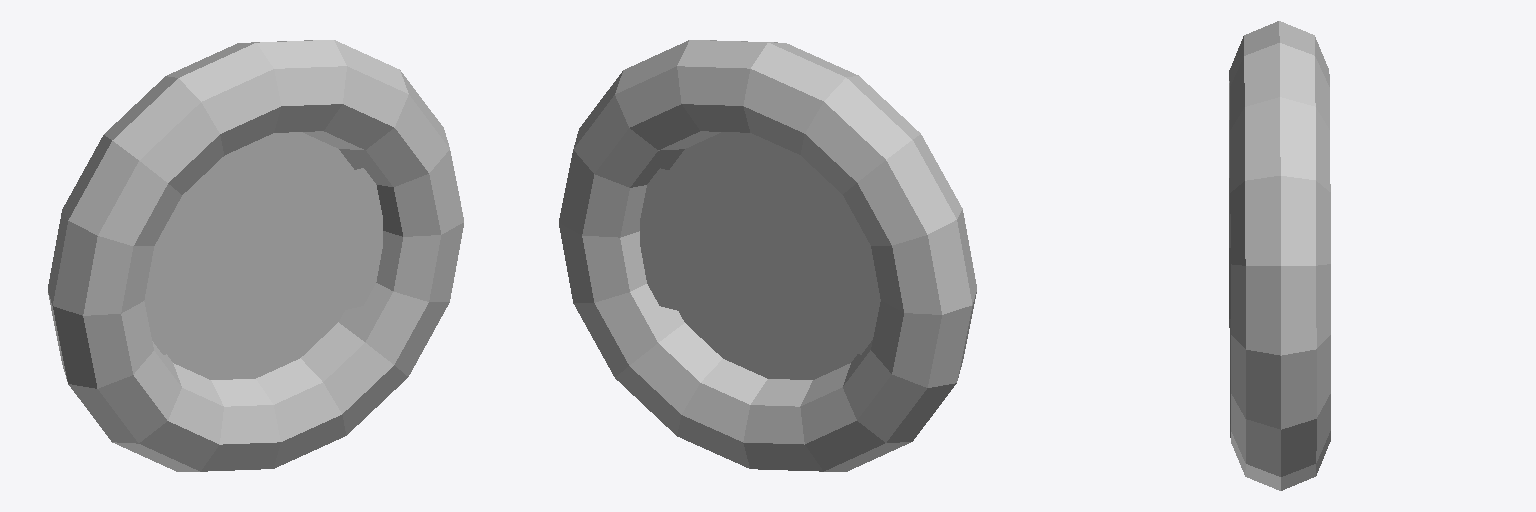
The model's file is Back Ring.obj.
The picture shows the model from 3 angles: view 1: azimuth 30°, elevation 25°; view 2: azimuth 150°, elevation 25°; view 3: azimuth 270°, elevation 25°; orthographic projection.
Visible parts, largest first — view 1: Mesh_0112; view 2: Mesh_0112; view 3: Mesh_0112.
Part boxes in pixels (x1,y1,x2,y2): Mesh_0112: (48,40,463,471); Mesh_0112: (559,40,976,471); Mesh_0112: (1229,21,1330,490).
Size of the model in its own units: 5.14 by 5.14 by 1.12.